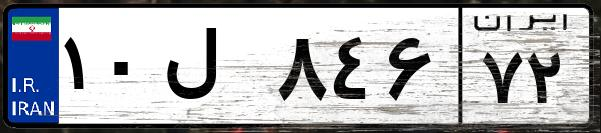0: (110, 28, 158, 98)
1: (57, 26, 110, 100)
2: (525, 38, 570, 115)
4: (330, 28, 385, 110)
6: (385, 28, 445, 110)
7: (475, 38, 525, 113)
8: (270, 28, 330, 110)
ل: (158, 20, 270, 120)
